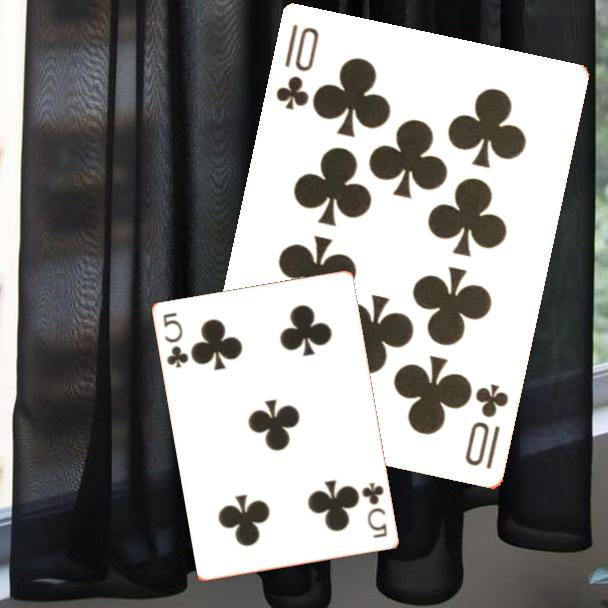c05: (359, 479, 391, 541), (160, 309, 192, 371)
c10: (462, 380, 512, 473), (273, 21, 323, 114)
